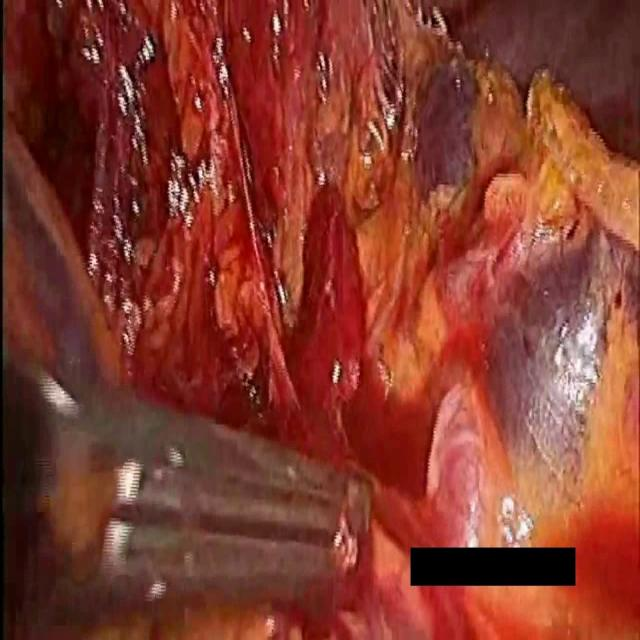surgical-area: (0, 0, 640, 639)
surgical-tool: (0, 349, 376, 636)
